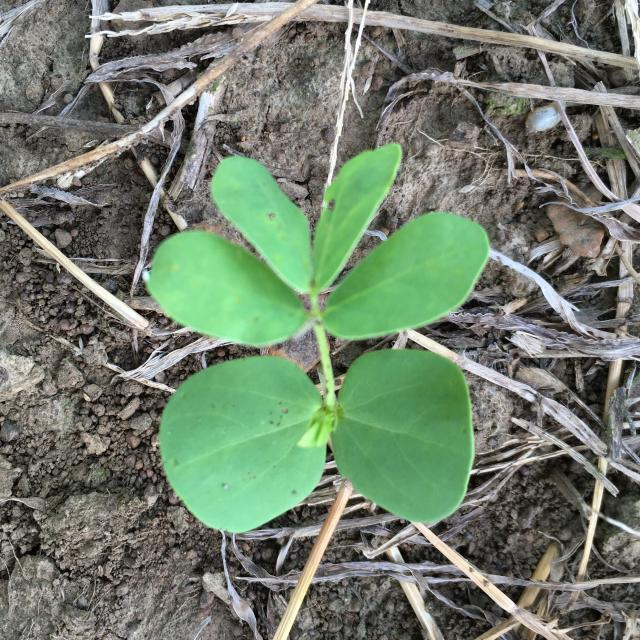Sicklepod: (147, 143, 490, 534)
